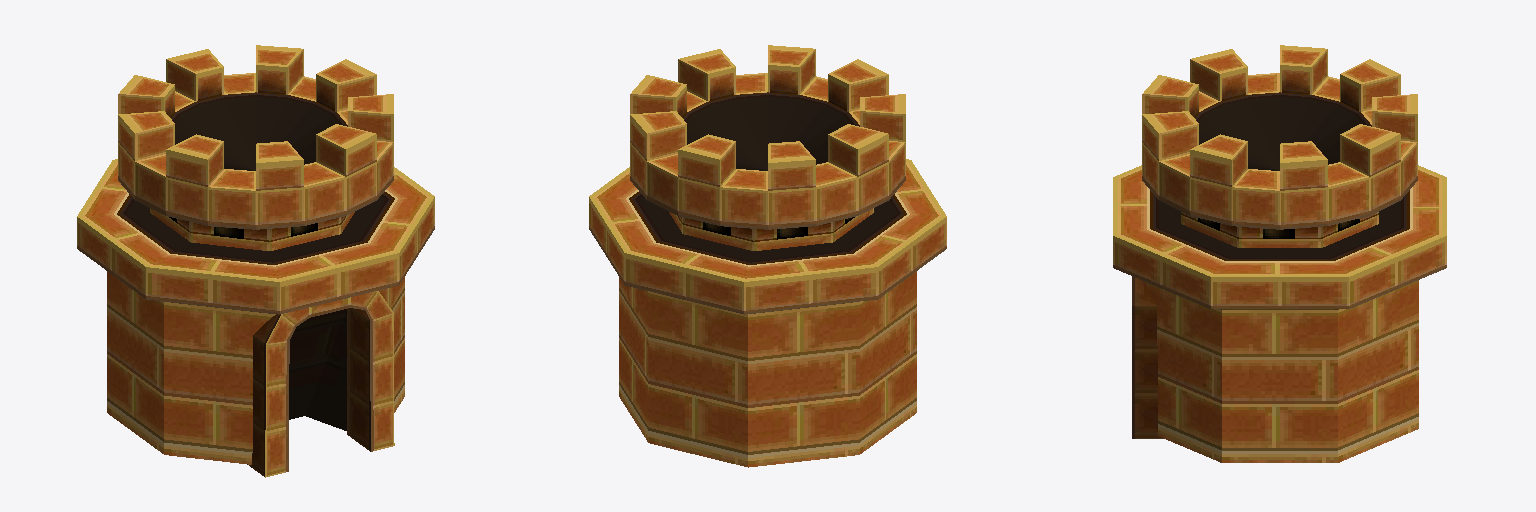
3 renders of one model, left to right at view 1: azimuth 30°, elevation 25°; view 2: azimuth 150°, elevation 25°; view 3: azimuth 270°, elevation 25°, orthographic.
Parts seen in each view (by area): view 1: default; view 2: default; view 3: default.
Boxes of the visible parts, <box> form: default: <box>77,45,434,477</box>; default: <box>589,45,946,467</box>; default: <box>1113,45,1446,462</box>.
Bounding box in the file's own units: 74.5 × 74.8 × 74.5.
1 materials, 1 textured.